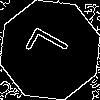L: (25, 25, 78, 71)
